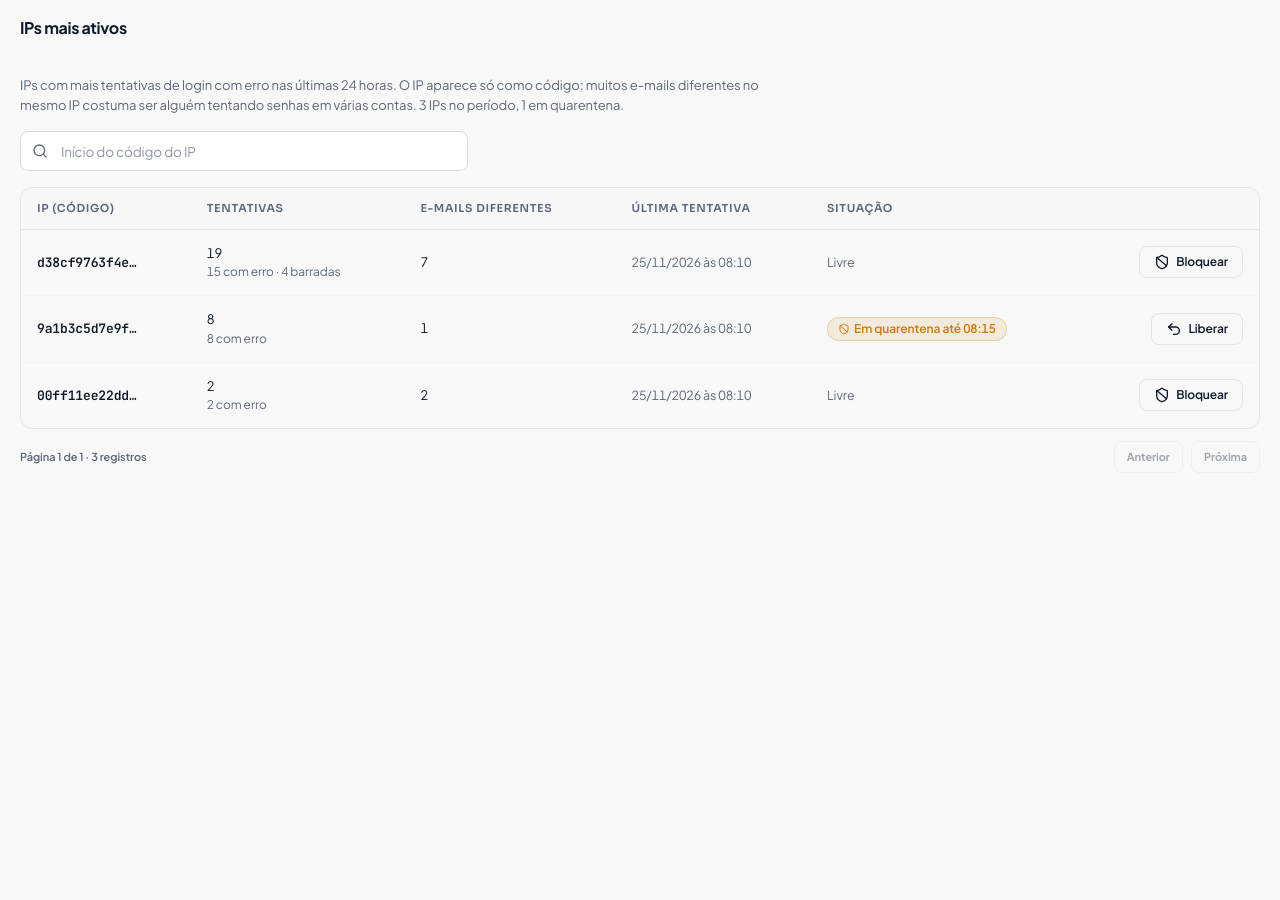
Test: IpsPanel › bloquear: exige motivo, manda a duração escolhida e o código completo
The image size is (1280, 900).
Expected: the table is shown, [21,188,1259,428]
Click the button with aria-label "Colocar o IP d38cf9763f4e… em quarentena". click: coordinates (1191, 262)
box: [1139,246,1243,278]
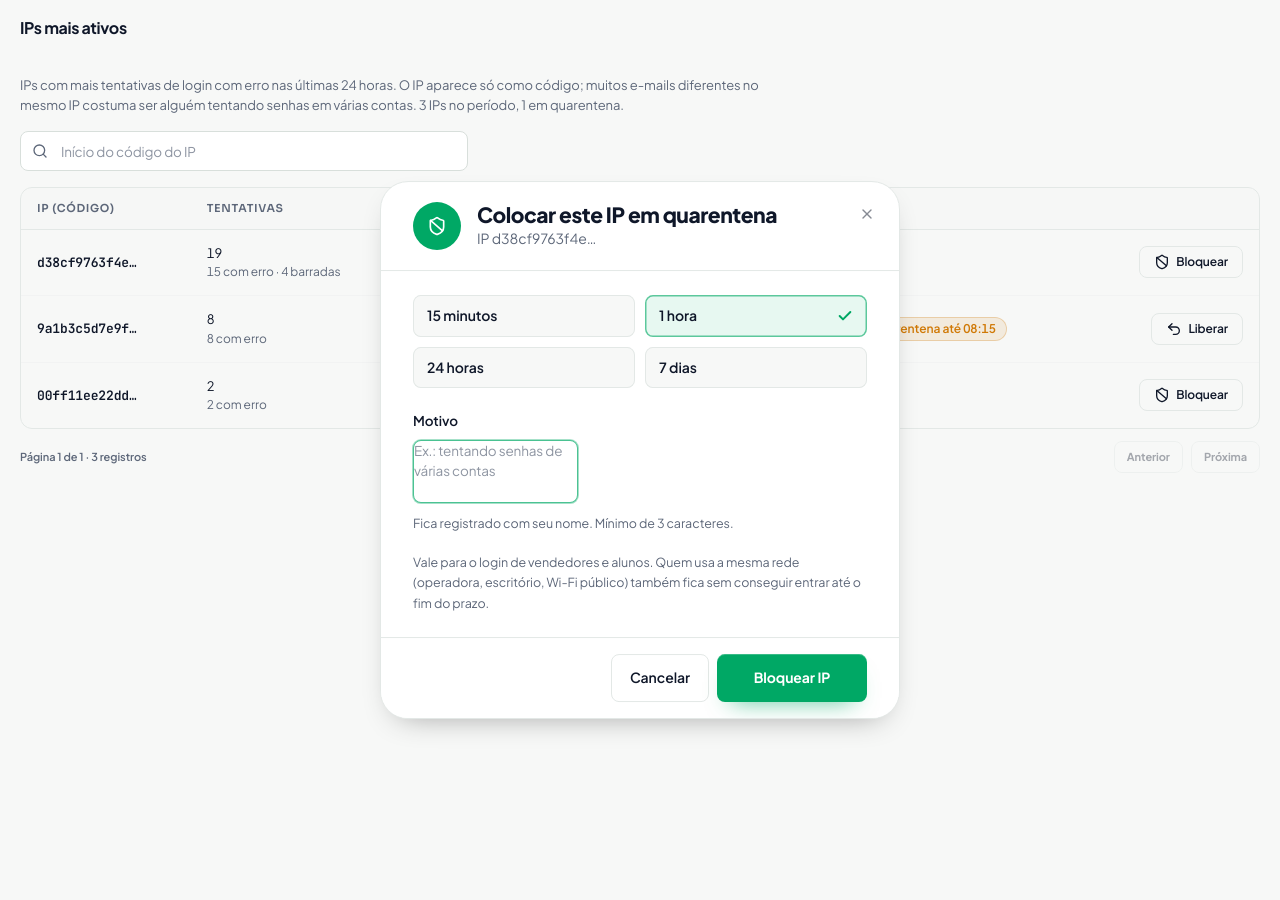
Expected: the heading "Colocar este IP em quarentena" is shown, [477,201,777,228]
Expected: the text "IP d38cf9763f4e…" is shown, [477,230,596,248]
Type "ab" into the text box labelled "Motivo". click: coordinates (496, 472)
box: [413,440,578,503]
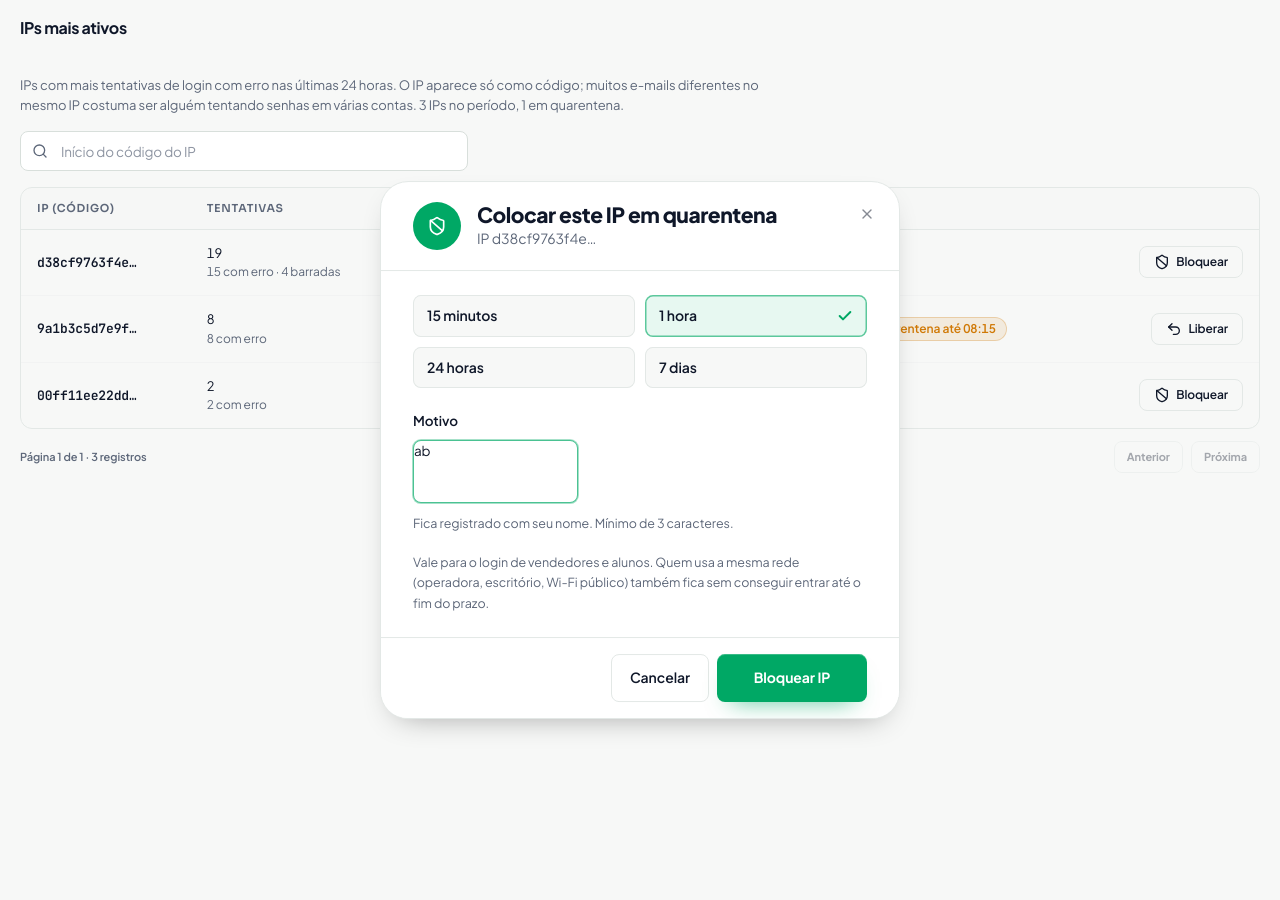
Click the button "Bloquear IP". click: coordinates (792, 678)
box: [717,654,867,702]
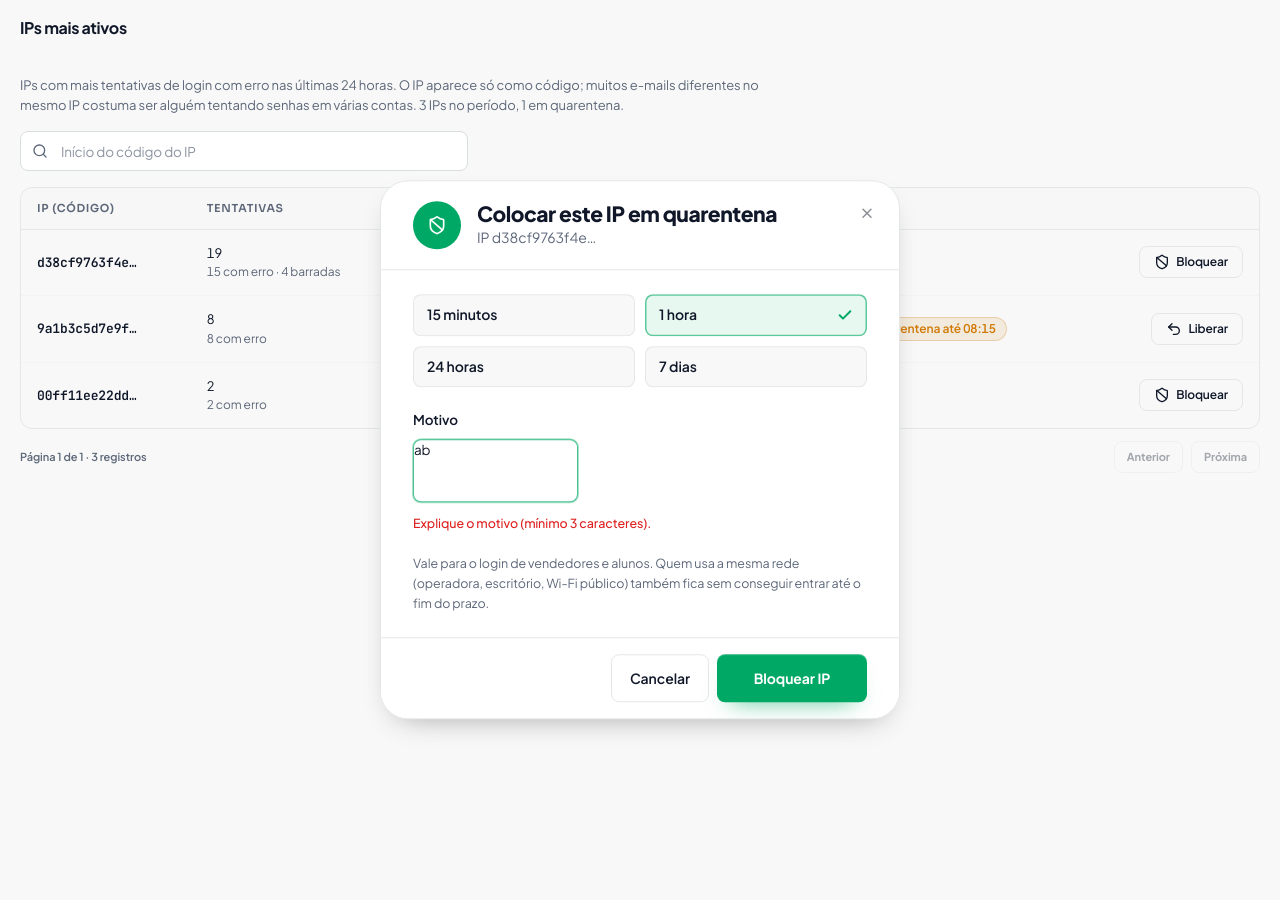
Expected: the text "Explique o motivo (mínimo 3 caracteres)." is shown, [413,515,651,531]
Click the radio button labelled "24 horas". click: coordinates (524, 367)
box: [413,346,635,387]
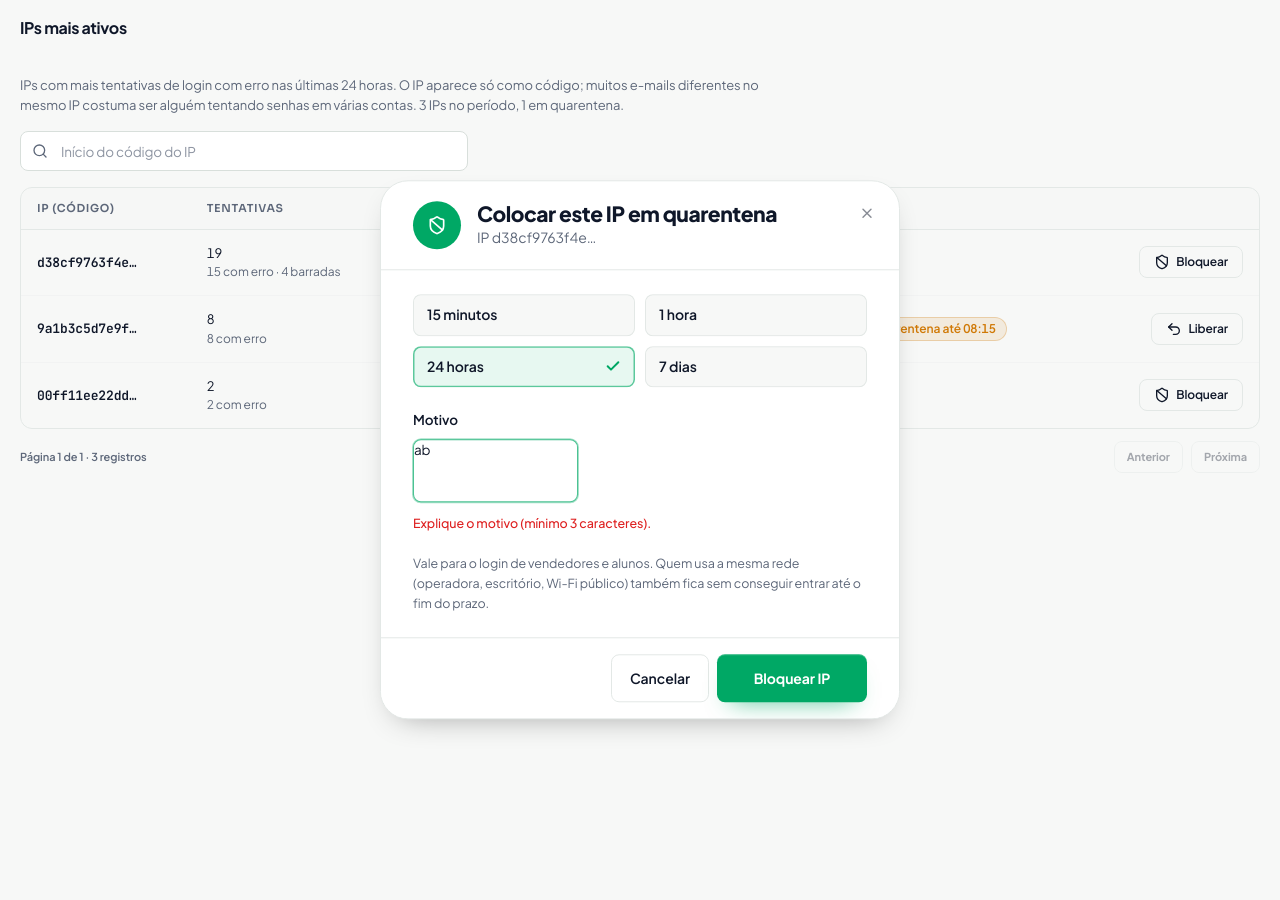
Replace the text in the text box labelled "Motivo" with "senhas de várias contas". click: coordinates (496, 471)
box: [413,439,578,502]
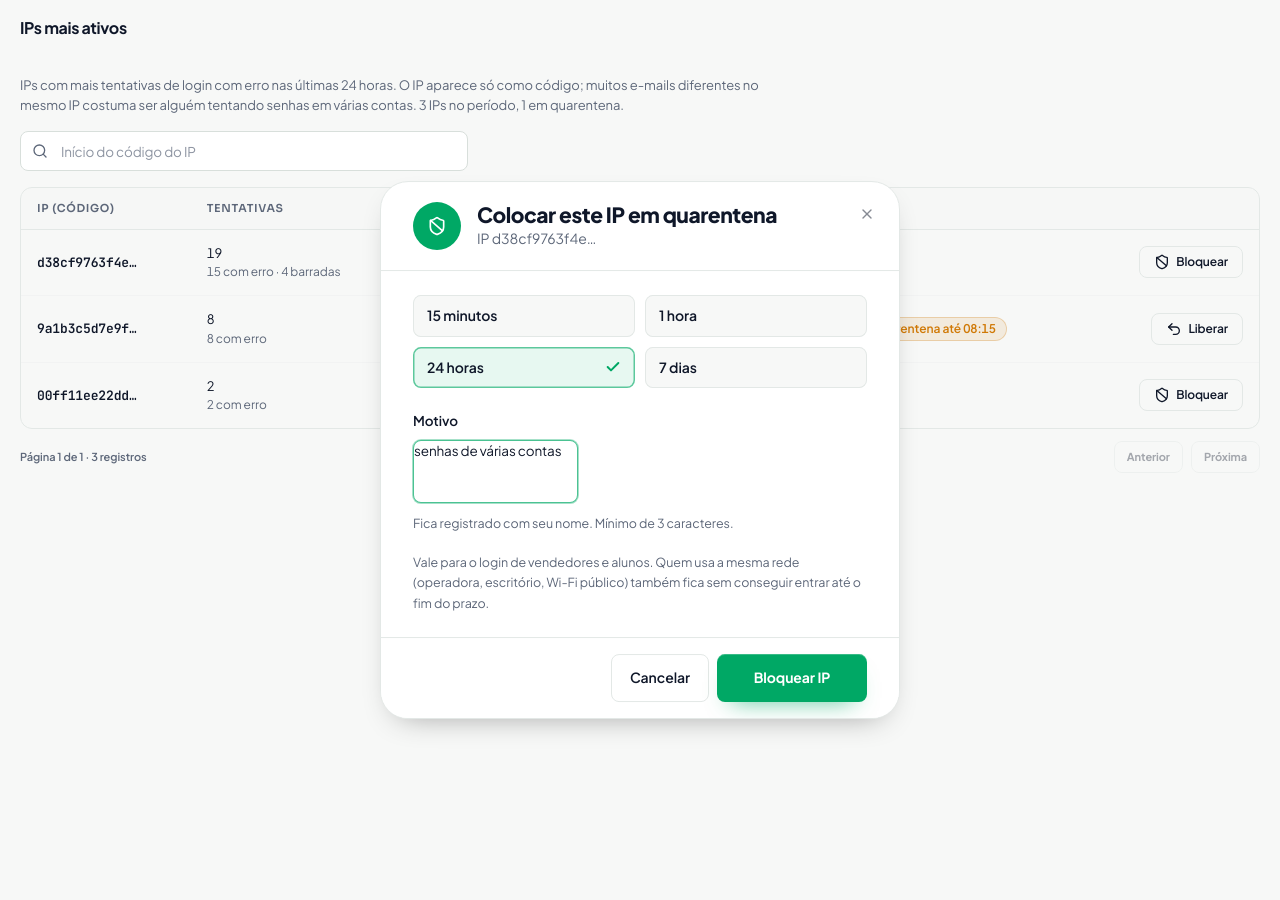
Click the button "Bloquear IP". click: coordinates (792, 678)
box: [717,654,867,702]
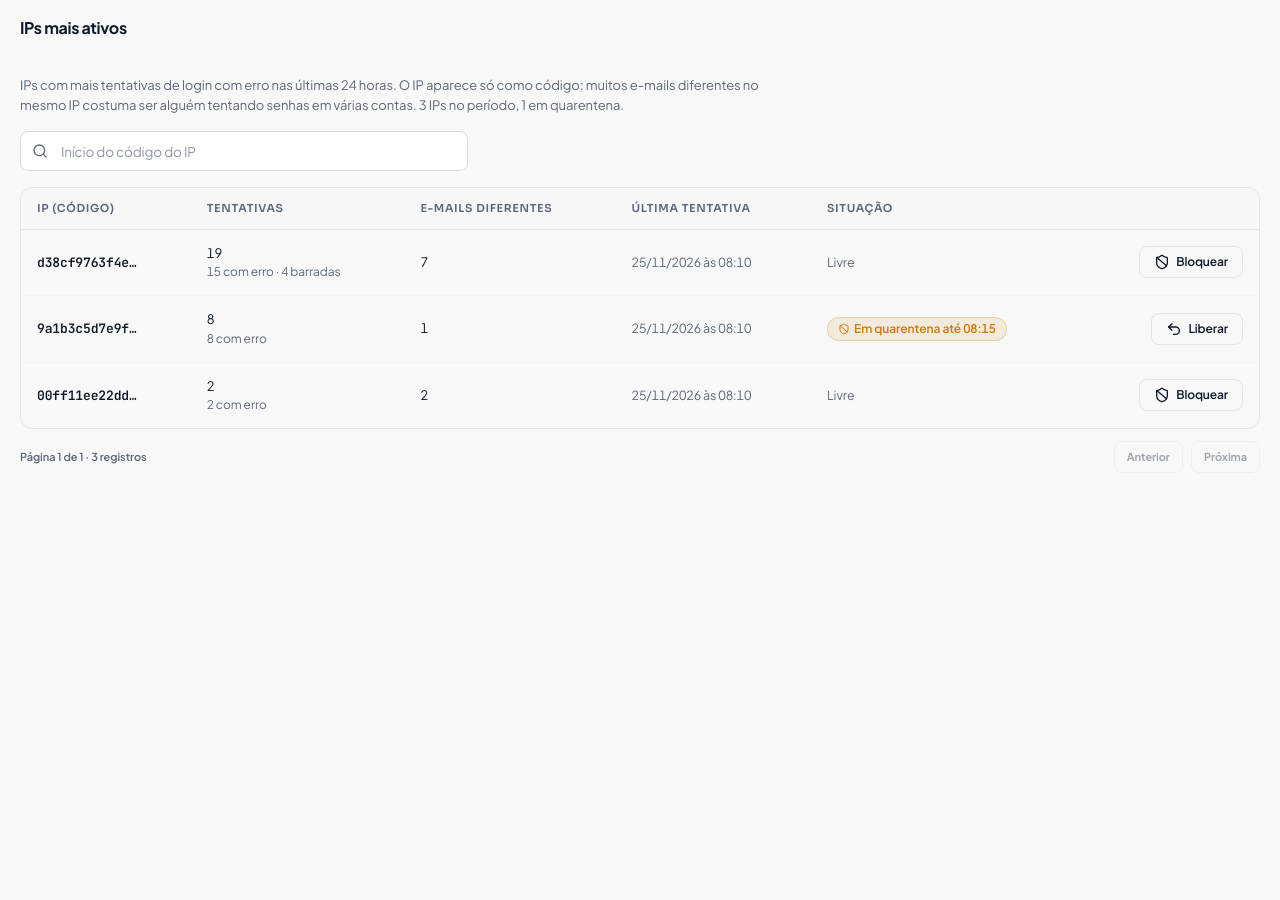
Expected: the dialog is gone
